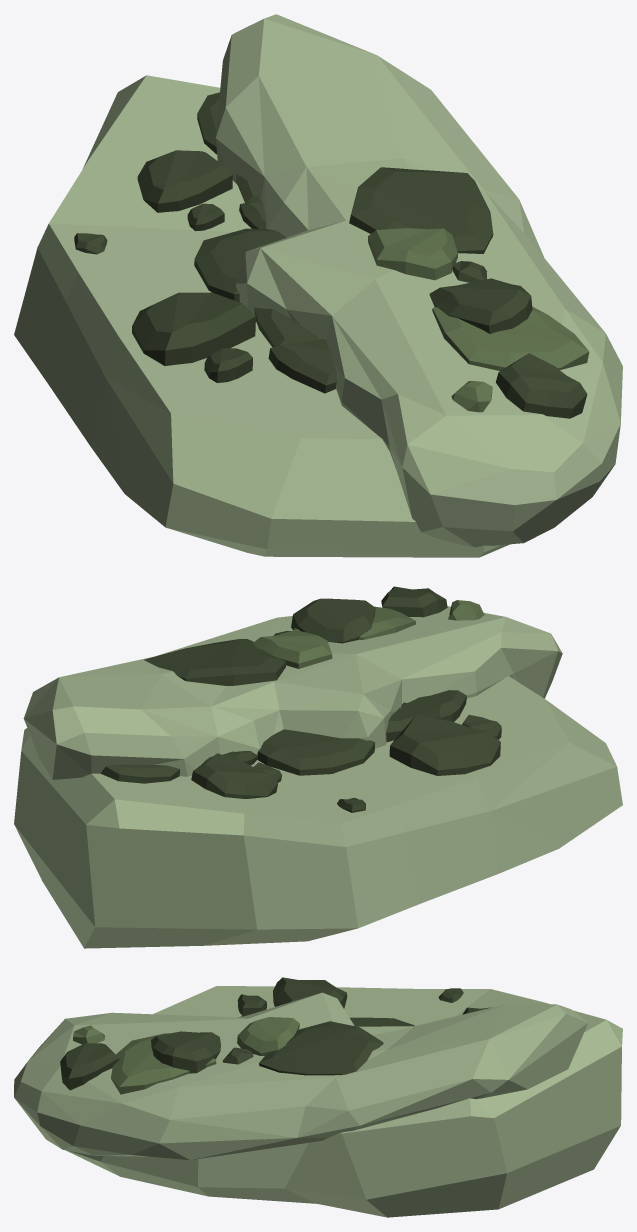
Rendered from EA_Swamp_RockBig_Moss_01b.glb.
3 views of the same model, one above another, from view 1: azimuth 30°, elevation 25°; view 2: azimuth 150°, elevation 25°; view 3: azimuth 270°, elevation 25° (orthographic). The views are drawn at different scales.
Visible parts, largest first — view 1: EA_Swamp_RockBig_Moss_01b; view 2: EA_Swamp_RockBig_Moss_01b; view 3: EA_Swamp_RockBig_Moss_01b.
Part boxes in pixels (x1,y1,x2,y2): EA_Swamp_RockBig_Moss_01b: (14, 14, 622, 557); EA_Swamp_RockBig_Moss_01b: (14, 586, 622, 948); EA_Swamp_RockBig_Moss_01b: (14, 977, 622, 1217).
Size of the model in its own units: 3.95 by 1.93 by 5.98.
1 material, 1 textured.
